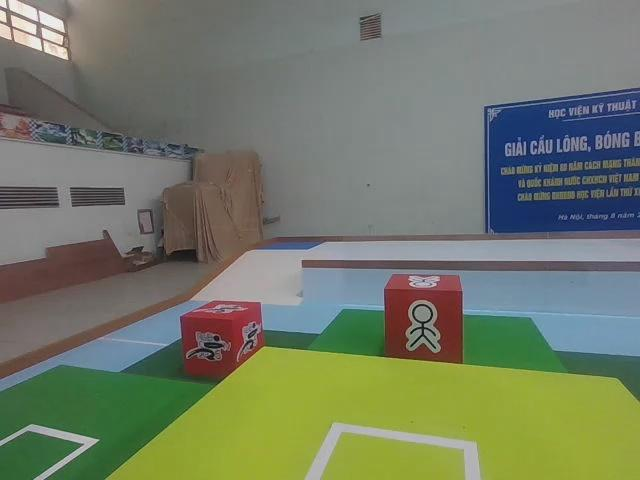R1: (178, 296, 267, 383)
R2 Real: (381, 269, 466, 365)
